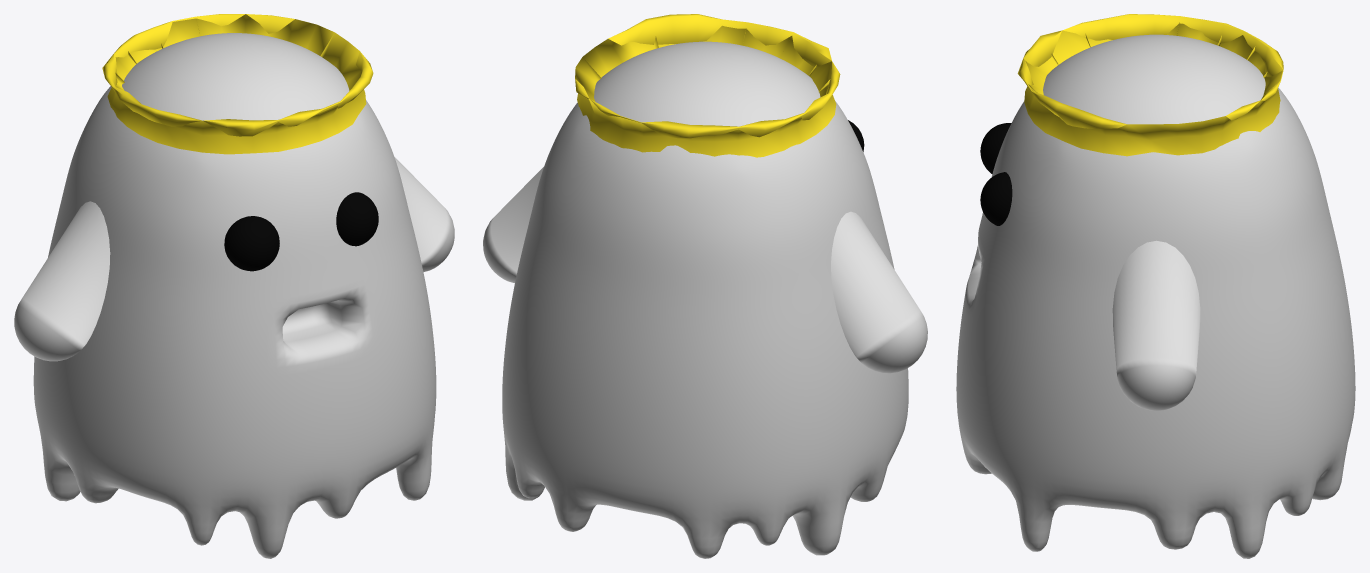
File: ghost.fbx
3 views of the same model, side by side, from view 1: azimuth 30°, elevation 25°; view 2: azimuth 150°, elevation 25°; view 3: azimuth 270°, elevation 25° (orthographic).
Parts seen in each view (by area): view 1: Sphere.001; view 2: Sphere.001; view 3: Sphere.001.
Part boxes in pixels (box(x1,y1,x2,y2)): Sphere.001: box(14, 14, 454, 558); Sphere.001: box(483, 14, 927, 558); Sphere.001: box(956, 14, 1355, 558).
Size of the model in its own units: 261 by 252 by 207.
